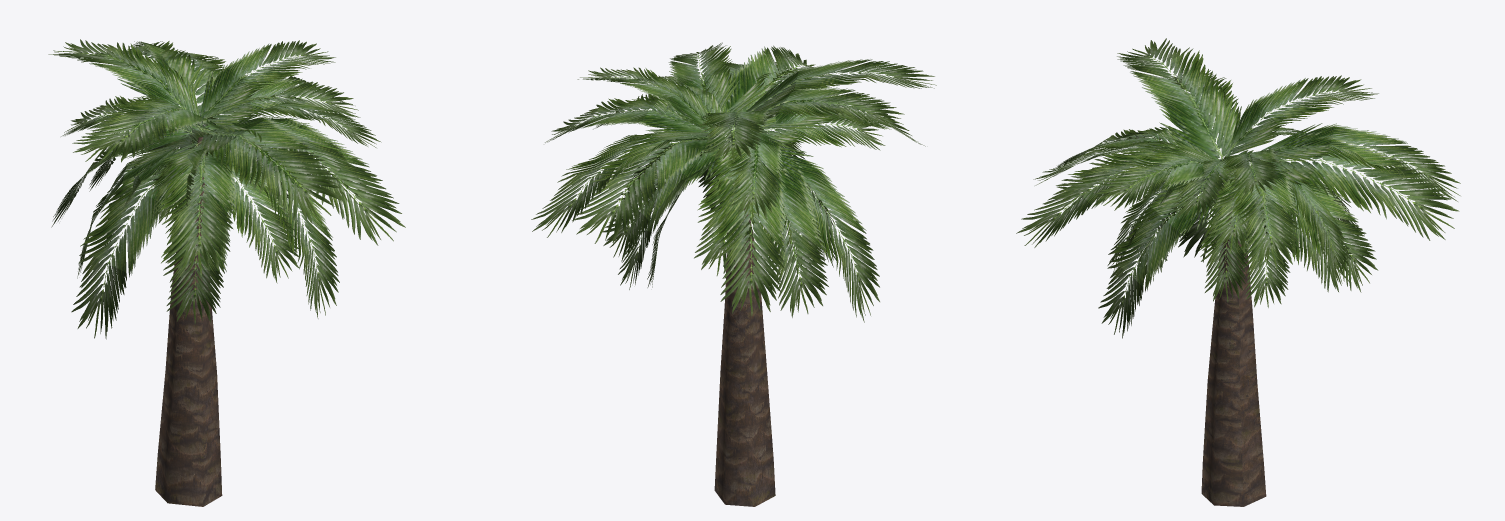
Rendered from lowpalm2.fbx.
3 renders of one model, left to right at view 1: azimuth 30°, elevation 25°; view 2: azimuth 150°, elevation 25°; view 3: azimuth 270°, elevation 25°, orthographic. The views are drawn at different scales.
Visible parts, largest first — view 1: sketch-1629725718620.039, tree; view 2: sketch-1629725718620.039, tree; view 3: sketch-1629725718620.039, tree.
Part boxes in pixels (x1,y1,x2,y2): sketch-1629725718620.039: (48, 39, 405, 339); tree: (155, 137, 222, 506); sketch-1629725718620.039: (531, 42, 936, 322); tree: (714, 208, 775, 506); sketch-1629725718620.039: (1016, 38, 1460, 338); tree: (1201, 196, 1266, 506).
Bounding box in the file's own units: 451 × 511 × 572.
